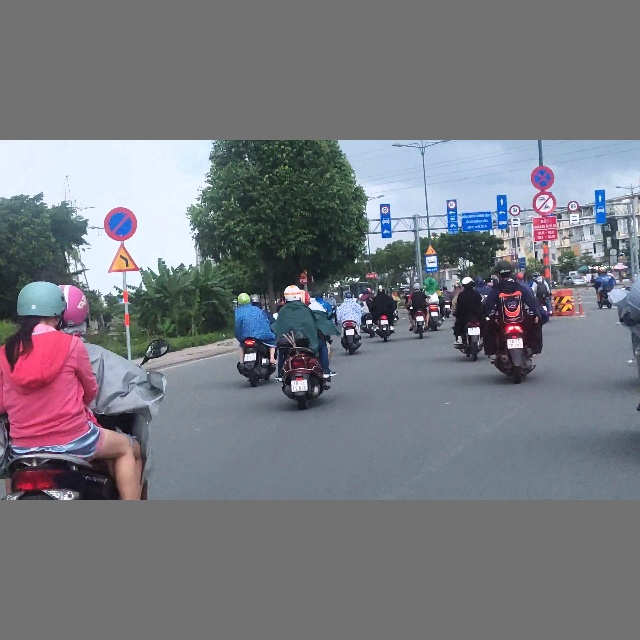I.434a: (425, 256, 439, 273)
P.111: (533, 190, 556, 215)
P.127*50: (447, 200, 456, 209), (381, 206, 389, 214)
P.127*60: (509, 204, 520, 217)
P.127*80: (568, 200, 579, 212)
P.130: (531, 164, 554, 189)
P.131a: (104, 206, 138, 240)
S.505a*Xe tai va cong: (511, 217, 521, 227)
W.201b: (108, 244, 142, 274), (425, 243, 437, 256)
